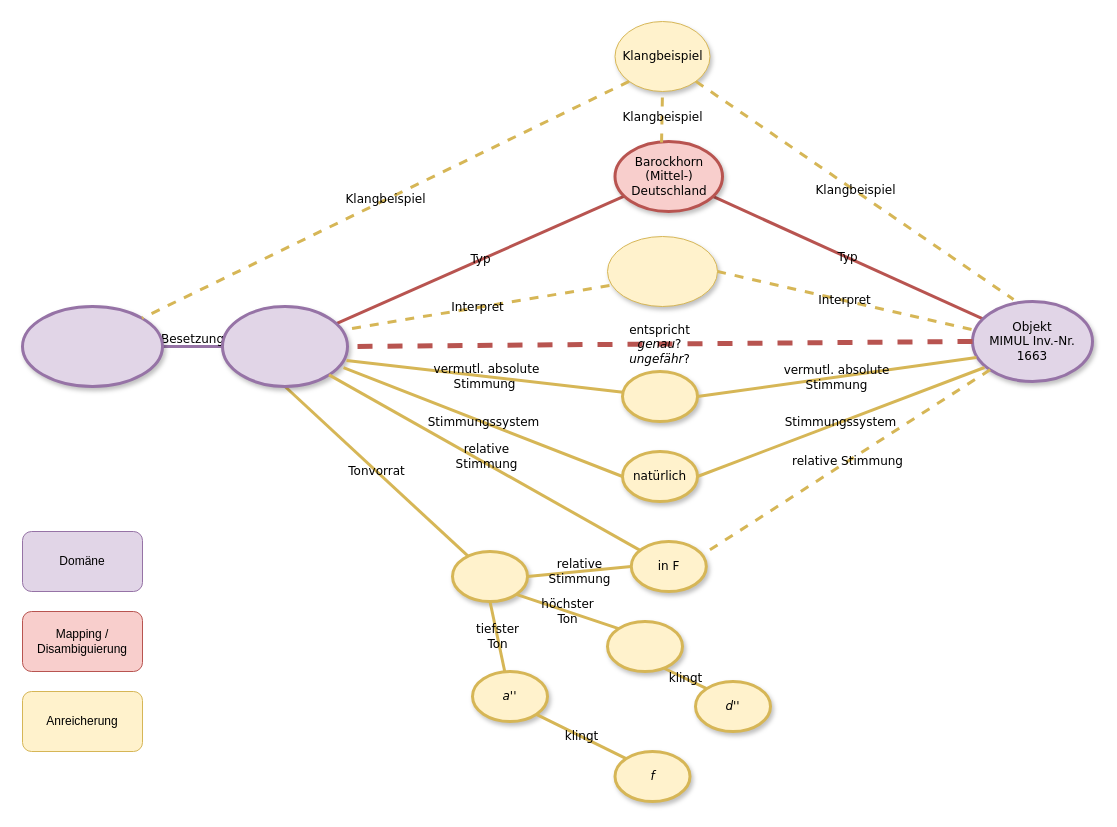
Some shapes in this 1117 by 827 pixel diagram are drawn without their labels. The shapes that lost their labels are listed below. From the top down, each one's centre as x and y in pixels, then its label:
At point (663, 273): "Person".
At point (93, 347): "BWV 208".
At point (285, 347): "cor da caccia".
At point (660, 398): "a' = 415 Hz".
At point (490, 578): "Ambitus".
At point (646, 648): "c'".
